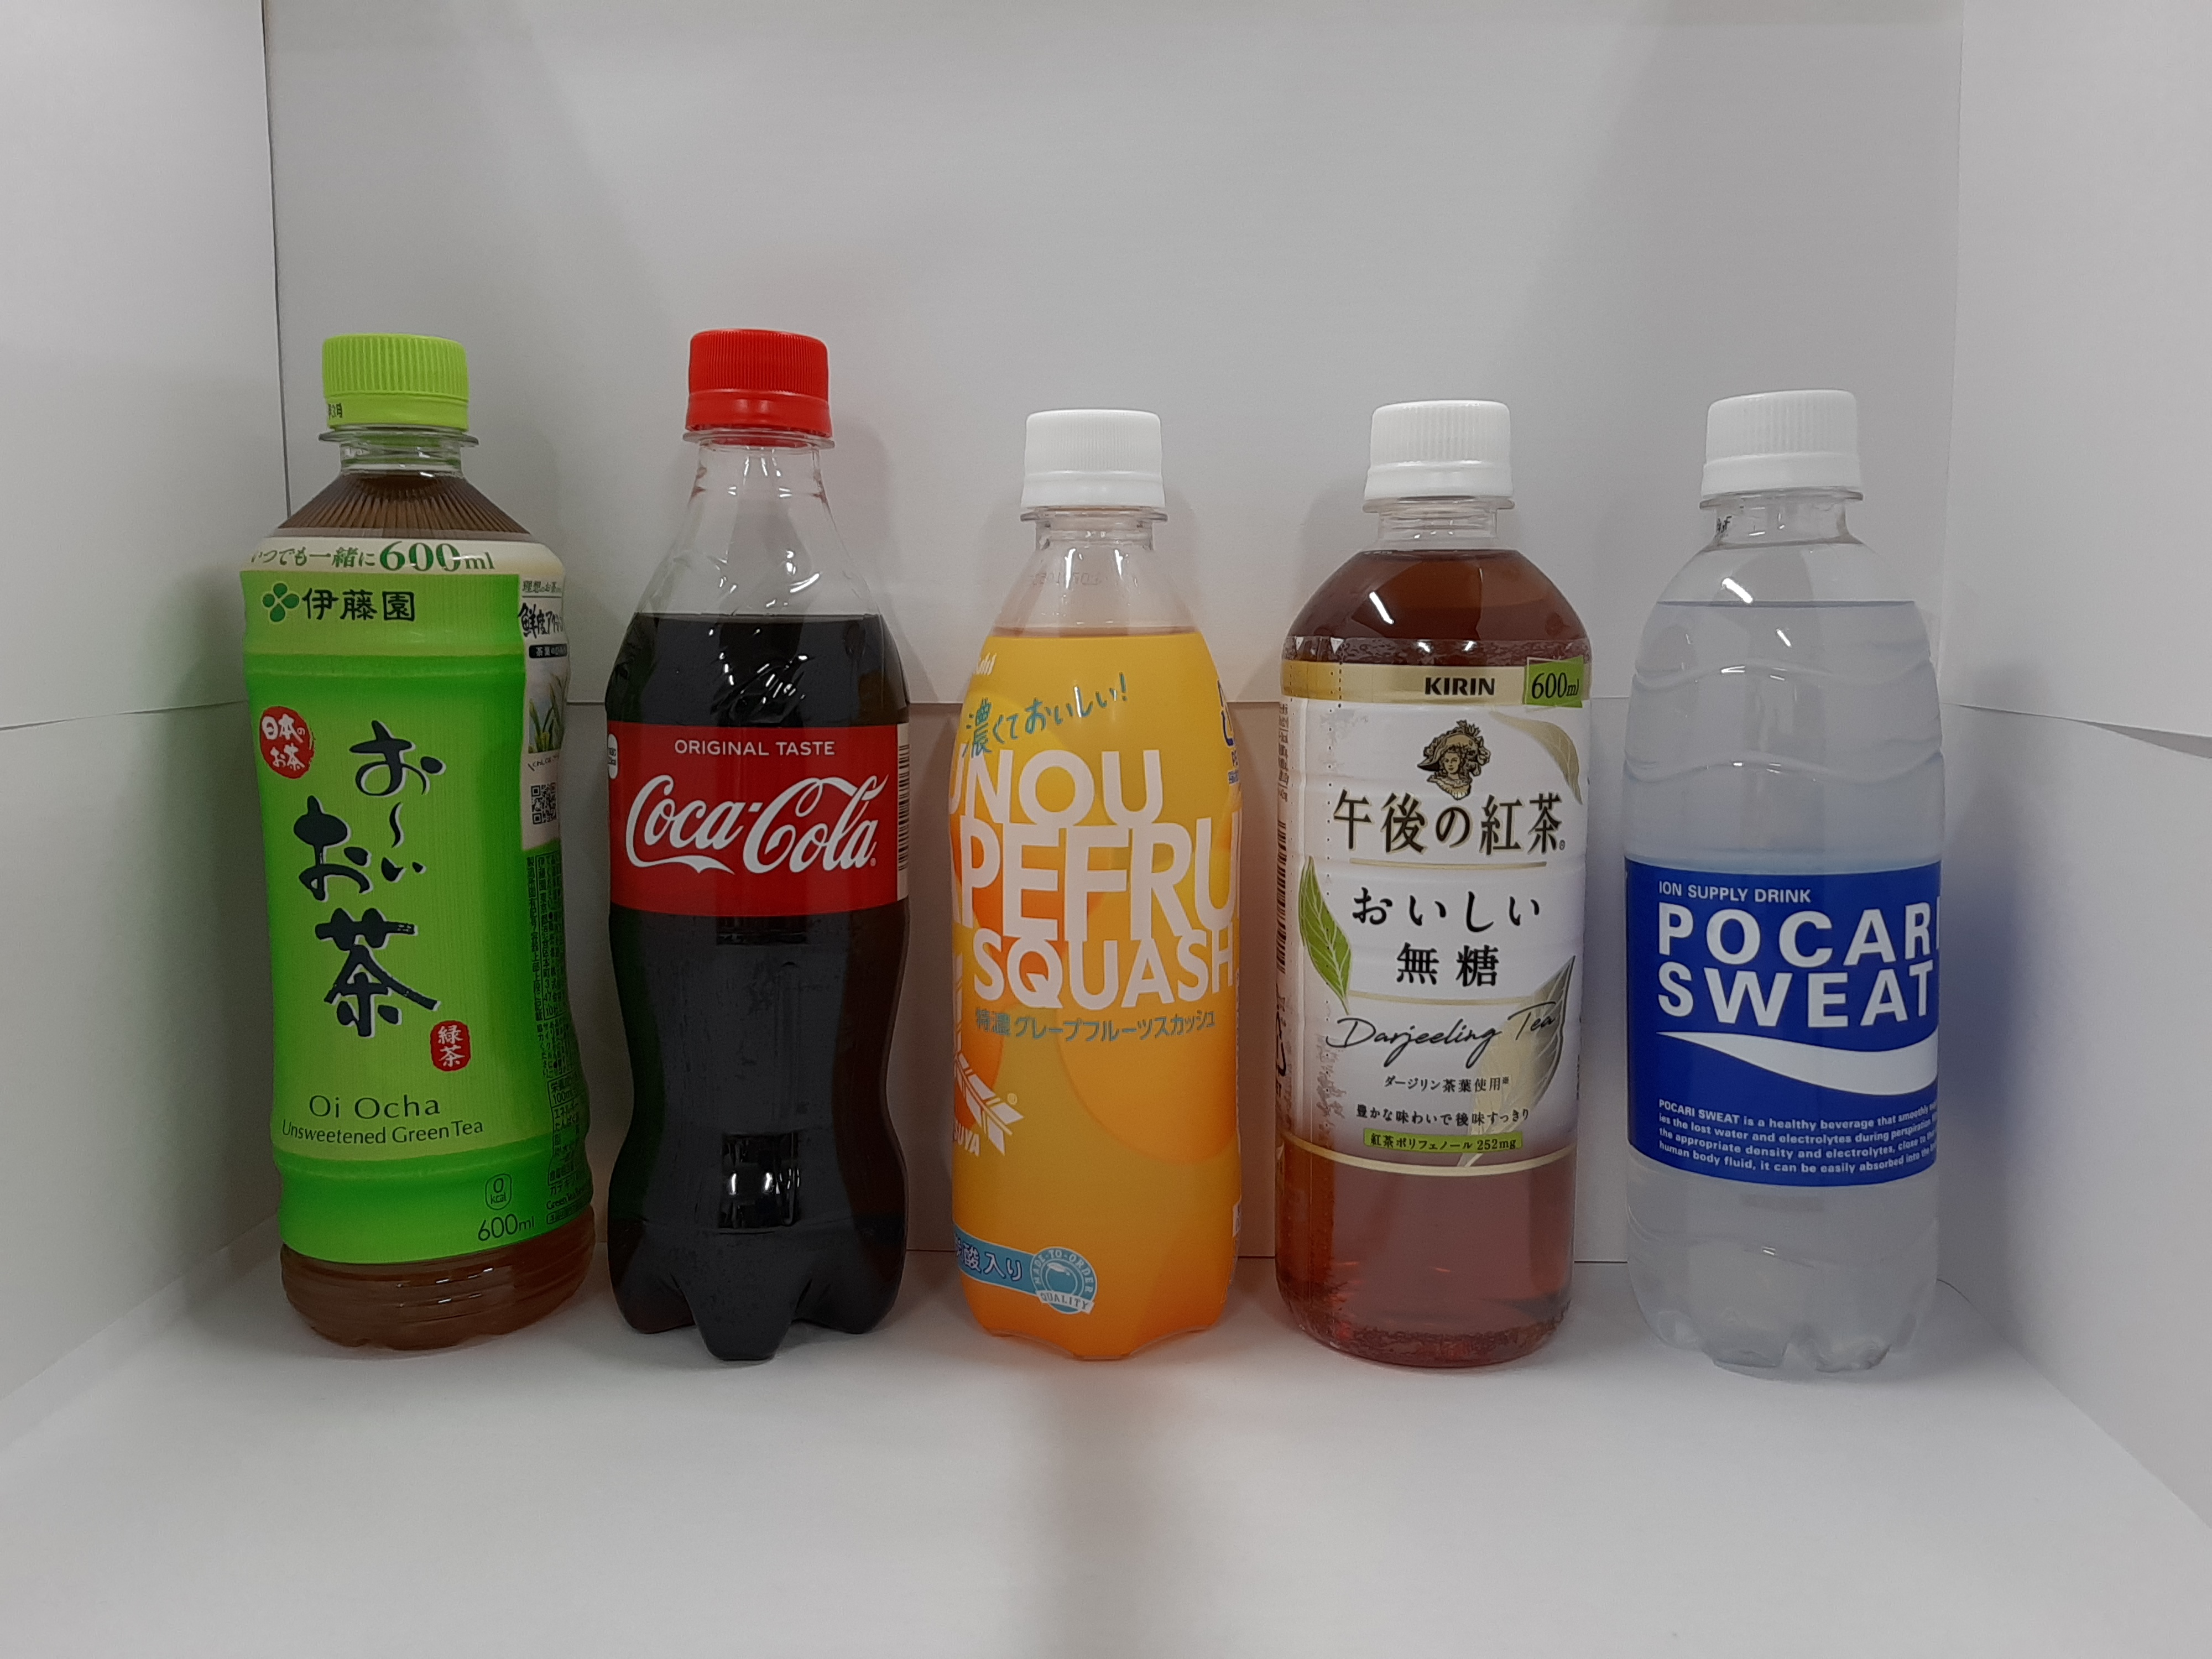おーいお茶: (197, 303, 603, 1378)
グレープフルーツスカッシュ: (932, 389, 1263, 1378)
コーラ: (596, 310, 932, 1378)
ポカリスエット: (1606, 371, 1973, 1392)
午後の紅茶: (1263, 383, 1613, 1384)
